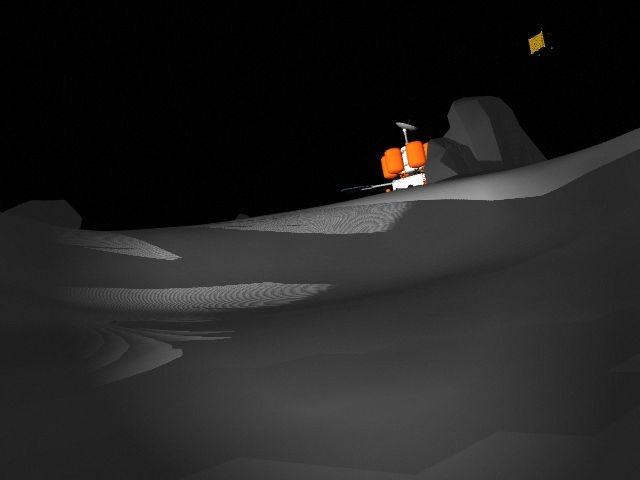cubesat: (522, 27, 568, 61)
